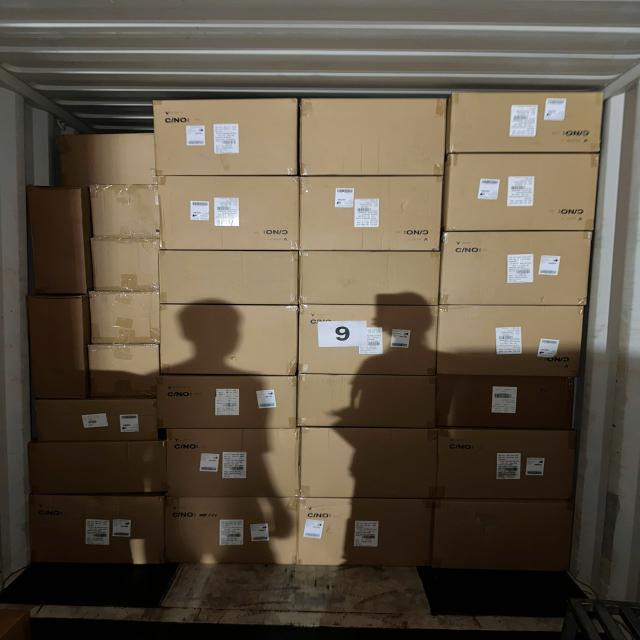Carton: (449, 146, 601, 232), (306, 96, 448, 180), (440, 232, 588, 310), (429, 300, 580, 376), (159, 98, 300, 178), (428, 498, 568, 578), (305, 171, 446, 250), (165, 170, 304, 249), (429, 426, 571, 500), (305, 424, 442, 500), (296, 496, 434, 571), (33, 497, 169, 572), (305, 300, 443, 373), (166, 300, 303, 373), (170, 425, 304, 498), (454, 93, 606, 157), (172, 499, 303, 572), (436, 376, 584, 436), (298, 250, 441, 309), (156, 249, 300, 307), (304, 374, 442, 434), (165, 375, 302, 434), (34, 438, 168, 497), (29, 184, 88, 294), (29, 296, 88, 403), (33, 400, 160, 444), (63, 132, 158, 186), (86, 344, 162, 399), (90, 184, 162, 242), (92, 290, 163, 344), (92, 240, 161, 294)
